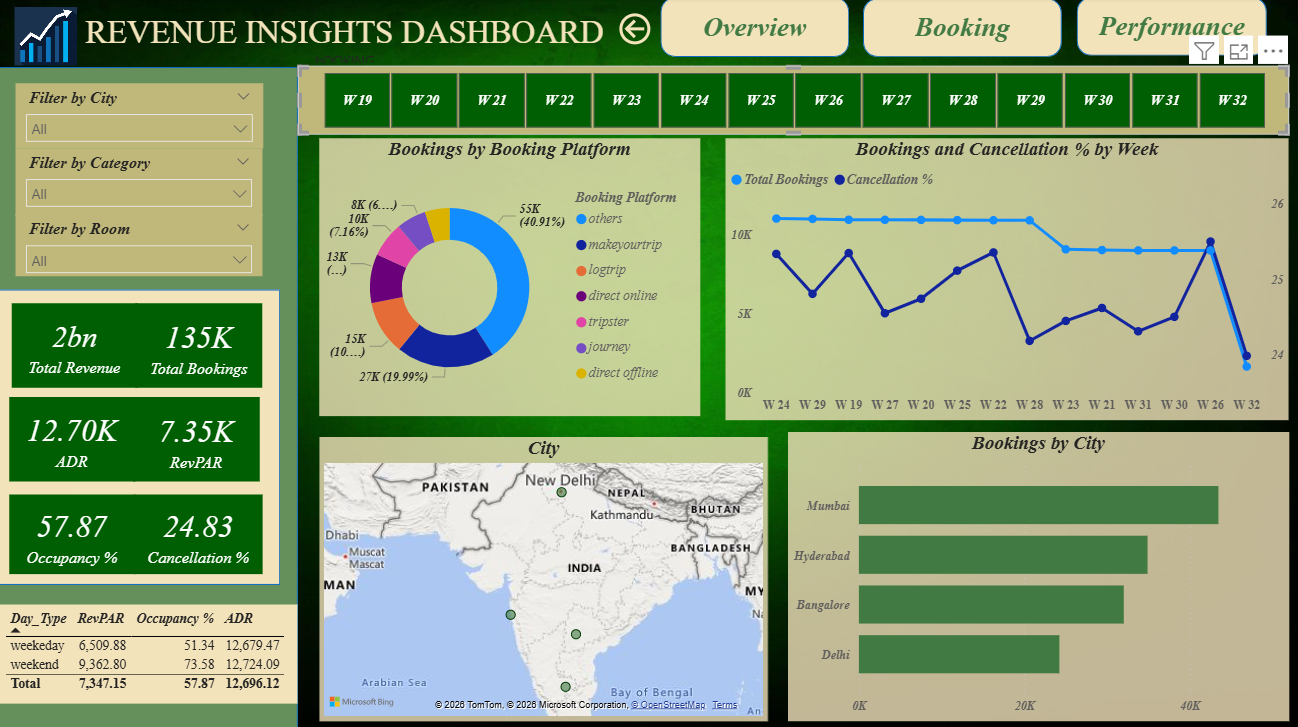

This screenshot's page, from the dashboard's own definition file:
{"tool":"powerbi","page":{"name":"Booking","canvas":[1280,720],"ordinal":2},"visuals":[{"type":"image","title":"Background_Image","box":[0,0,1280,720],"z":0},{"type":"image","title":"Logo_revenue","box":[10,10,73.8,57.8],"z":1000},{"type":"textbox","title":"Heading","box":[18.1,11.1,652.5,58.4],"z":2000},{"type":"actionButton","title":"Home_BTN","box":[606.8,11.1,45.5,40.6],"z":2500},{"type":"shape","title":"Overview_BTN","box":[652.3,0,185.8,59.1],"z":3000},{"type":"shape","title":"Booking_BTN","box":[851.7,1.2,195.7,57.8],"z":4000},{"type":"shape","title":"Performance_BTN","box":[1062.2,0,187.1,57.8],"z":5000},{"type":"shape","title":"Shape_Home","box":[0,68.4,295.3,651.6],"z":6000},{"type":"slicer","title":"Filter by City","fields":{"Values":["dim_hotels.City"]},"box":[17.2,84.9,243.7,64],"z":7000},{"type":"slicer","title":"Filter by Category","fields":{"Values":["dim_hotels.Category"]},"box":[17.5,148.4,243.1,66.1],"z":8000},{"type":"slicer","title":"Filter by Room Class","fields":{"Values":["dim_rooms.Room_Class"]},"box":[17.5,214.4,243.1,61.1],"z":9000},{"type":"shape","title":"KPI_Shape","box":[0,288,277.8,290.9],"z":10000},{"type":"card","title":"Total_revenue","fields":{"Values":["fact_bookings.Total Revenue"]},"box":[13.1,301.1,123.6,82.9],"z":11000},{"type":"card","title":"Total_Bookings","fields":{"Values":["fact_bookings.Total Bookings"]},"box":[135.3,301.1,125.1,82.9],"z":12000},{"type":"card","title":"ADR","fields":{"Values":["fact_bookings.ADR"]},"box":[11.6,394.2,123.6,82.9],"z":13000},{"type":"card","title":"RevPAR","fields":{"Values":["fact_bookings.RevPAR"]},"box":[133.4,394,124.7,83.5],"z":14000},{"type":"card","title":"Occupancy %","fields":{"Values":["fact_bookings.Occupancy %"]},"box":[11.6,490.2,123.6,78.5],"z":15000},{"type":"card","title":"Cancellation %","fields":{"Values":["fact_bookings.Cancellation %"]},"box":[133.8,490.2,126.5,78.5],"z":16000},{"type":"tableEx","title":"week_days table","fields":{"Values":["dim_date.day_type","fact_bookings.RevPAR","fact_bookings.Occupancy %","fact_bookings.ADR"]},"box":[1.5,597.8,293.8,97.5],"z":17000},{"type":"slicer","title":"Week Slicer","fields":{"Values":["dim_date.week no"]},"box":[295.1,67.6,976,67.6],"z":18000},{"type":"donutChart","title":"Bookings by Booking Platform","fields":{"Category":["fact_bookings.booking_platform"],"Y":["fact_bookings.Total Bookings"]},"box":[316.4,138.7,375.1,273.8],"z":19000},{"type":"lineChart","title":"Bookings and Cancellation % by Week","fields":{"Y":["fact_bookings.Total Bookings"],"Category":["dim_date.week no"],"Y2":["fact_bookings.Cancellation %"]},"box":[716.4,138.7,554.7,277.3],"z":20000},{"type":"map","title":"City","fields":{"Category":["dim_hotels.City"]},"box":[316.7,433.3,441.7,280],"z":21000},{"type":"barChart","title":"Bookings by City","fields":{"Category":["dim_hotels.City"],"Y":["fact_bookings.Total Bookings"]},"box":[778.3,428.3,493.3,285],"z":22000}]}

Visuals, with their boxes in screenshot pixels (x1, y1, x2, y2), scaled from the page's 1280x720 canvas onto the 1298x727 screenshot:
"Background_Image" image: x1=0 y1=0 x2=1297 y2=726
"Logo_revenue" image: x1=10 y1=10 x2=85 y2=68
"Heading" textbox: x1=18 y1=11 x2=680 y2=70
"Home_BTN" actionButton: x1=615 y1=11 x2=661 y2=52
"Overview_BTN" shape: x1=661 y1=0 x2=850 y2=60
"Booking_BTN" shape: x1=864 y1=1 x2=1062 y2=60
"Performance_BTN" shape: x1=1077 y1=0 x2=1267 y2=58
"Shape_Home" shape: x1=0 y1=69 x2=299 y2=726
"Filter by City" slicer: x1=17 y1=86 x2=265 y2=150
"Filter by Category" slicer: x1=18 y1=150 x2=264 y2=217
"Filter by Room Class" slicer: x1=18 y1=216 x2=264 y2=278
"KPI_Shape" shape: x1=0 y1=291 x2=282 y2=585
"Total_revenue" card: x1=13 y1=304 x2=139 y2=388
"Total_Bookings" card: x1=137 y1=304 x2=264 y2=388
"ADR" card: x1=12 y1=398 x2=137 y2=482
"RevPAR" card: x1=135 y1=398 x2=262 y2=482
"Occupancy %" card: x1=12 y1=495 x2=137 y2=574
"Cancellation %" card: x1=136 y1=495 x2=264 y2=574
"week_days table" tableEx: x1=2 y1=604 x2=299 y2=702
"Week Slicer" slicer: x1=299 y1=68 x2=1289 y2=137
"Bookings by Booking Platform" donutChart: x1=321 y1=140 x2=701 y2=417
"Bookings and Cancellation % by Week" lineChart: x1=726 y1=140 x2=1289 y2=420
"City" map: x1=321 y1=438 x2=769 y2=720
"Bookings by City" barChart: x1=789 y1=432 x2=1289 y2=720
